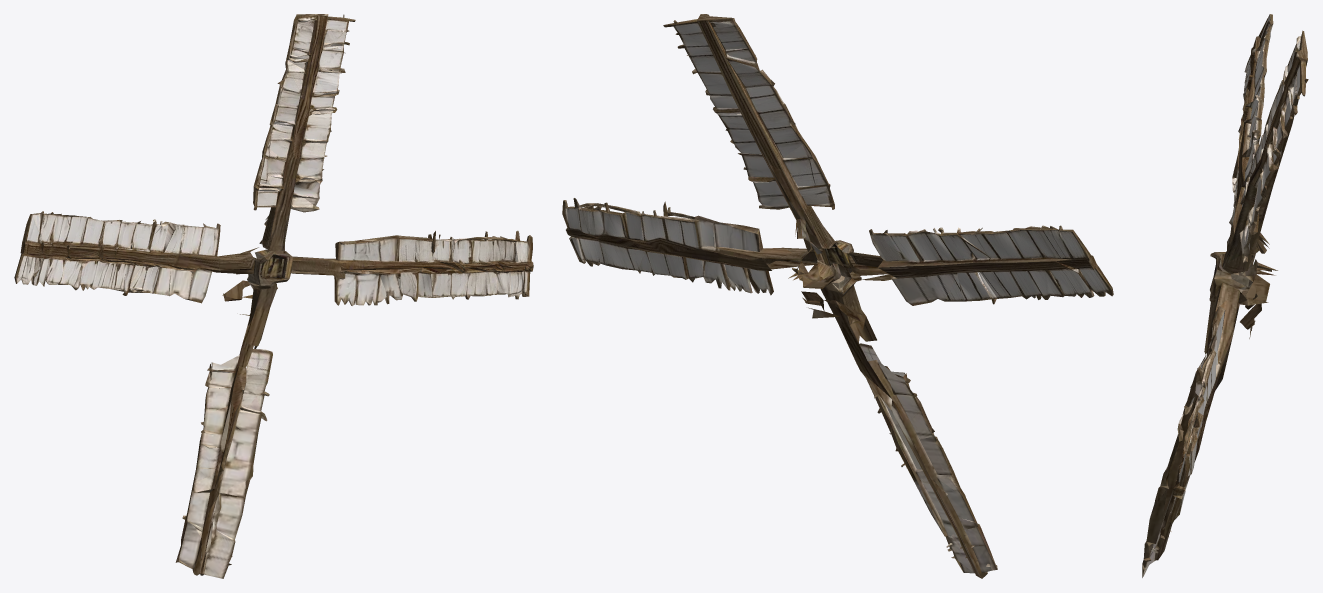
File: life_windmill_sails.glb
The picture shows the model from 3 angles, left to right: view 1: azimuth 30°, elevation 25°; view 2: azimuth 150°, elevation 25°; view 3: azimuth 270°, elevation 25°; orthographic projection. The views are drawn at different scales.
Visible parts, largest first — view 1: life_windmill_sails; view 2: life_windmill_sails; view 3: life_windmill_sails.
Part boxes in pixels (x1,y1,x2,y2): life_windmill_sails: (14, 14, 533, 578); life_windmill_sails: (562, 14, 1113, 578); life_windmill_sails: (1142, 14, 1308, 577).
Size of the model in its own units: 12.94 by 12.16 by 2.9.
Materials: 1 (1 with a texture image).
